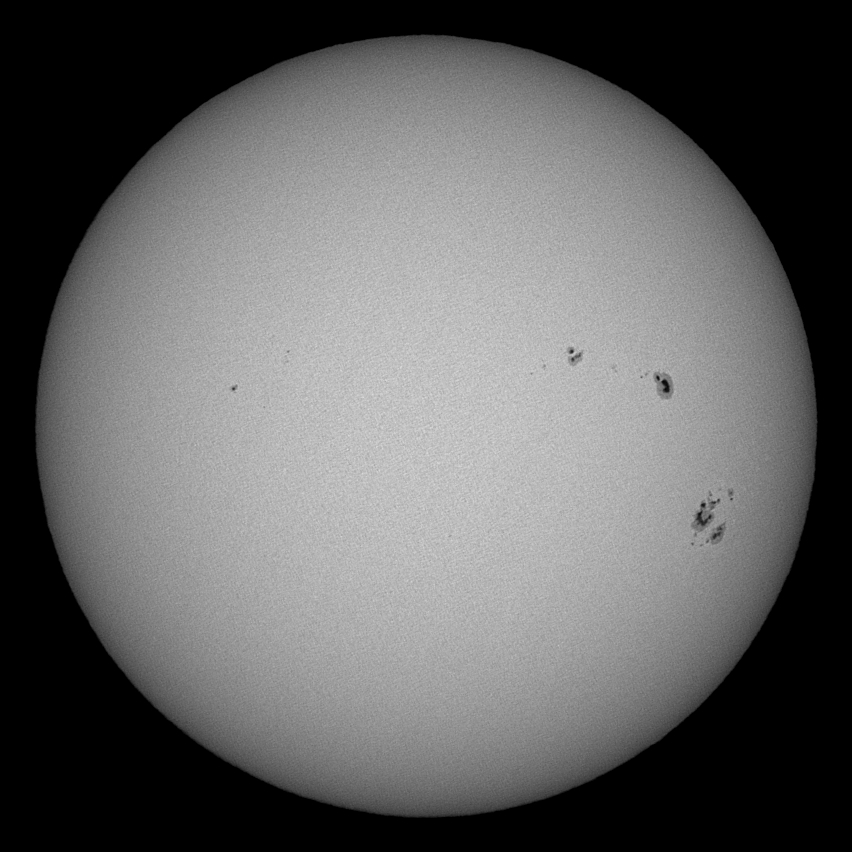sunspot: (690, 487, 737, 546), (650, 367, 676, 398), (564, 342, 587, 368), (228, 382, 241, 395)
